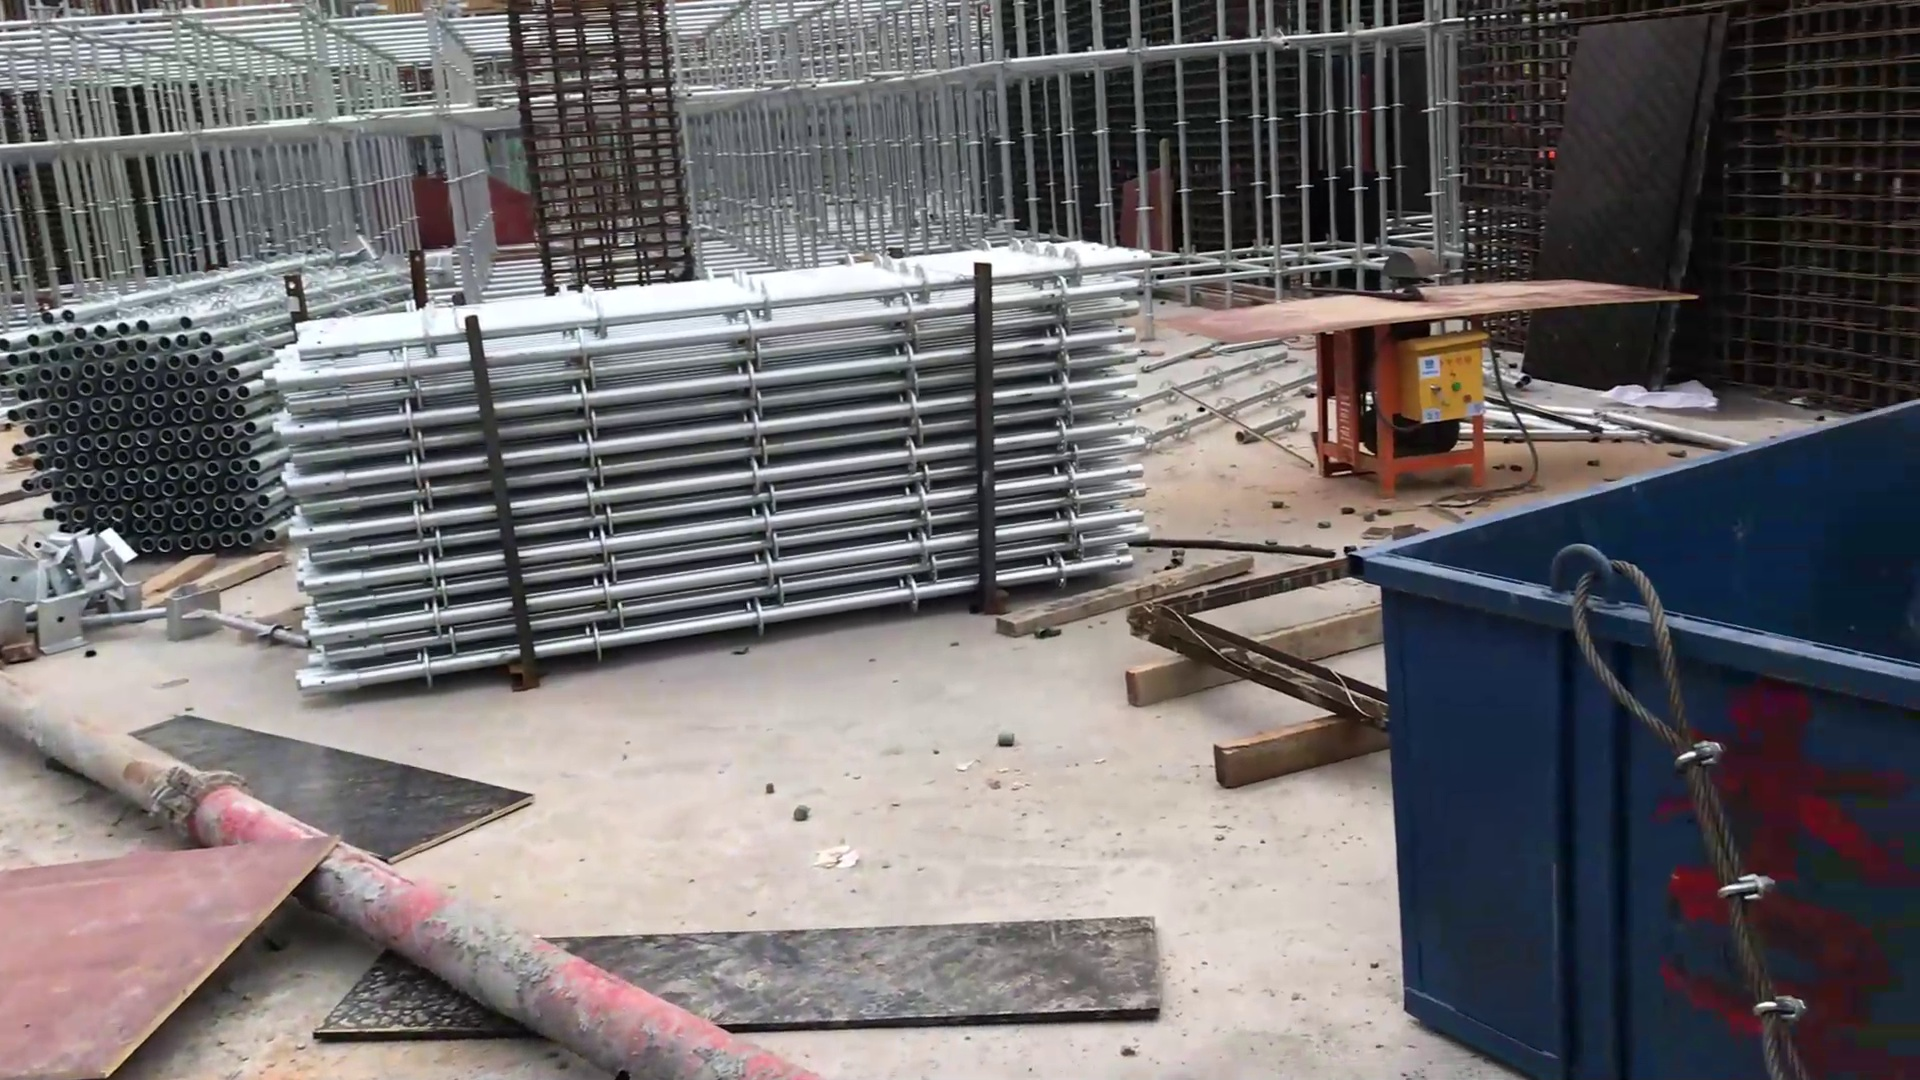cutter: (1178, 237, 1696, 493)
ebox: (1396, 323, 1489, 430)
hopper: (1373, 364, 1920, 1075)
scaffold: (269, 227, 1168, 711), (7, 268, 280, 567)
